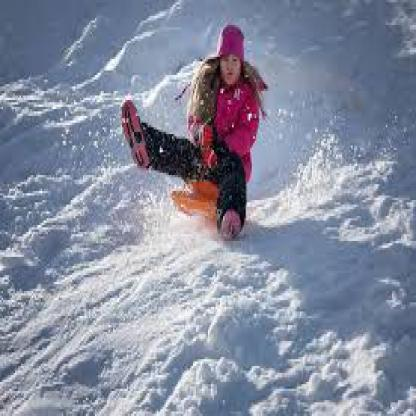Fall_Down: (121, 21, 261, 242)
